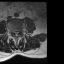CCS_normal: (15, 30, 17, 39)
LFS_severe_stenosis: (19, 29, 21, 34)
LLS_stenosis: (17, 30, 19, 36)
RFS_stenosis: (12, 28, 13, 34)
RLS_stenosis: (13, 29, 15, 35)
